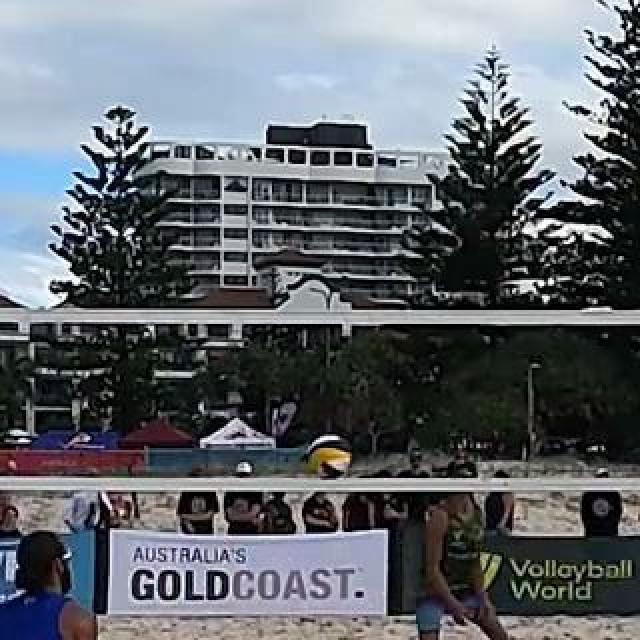volleyball: (309, 438, 349, 478)
